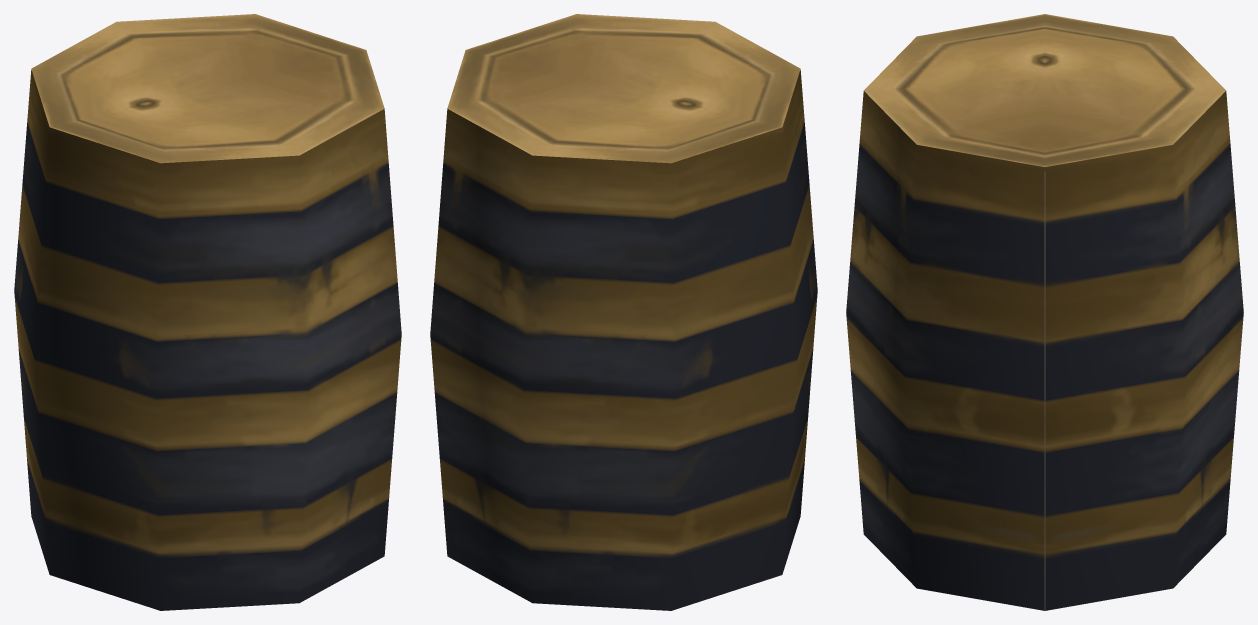
The picture shows the model from 3 angles, left to right: view 1: azimuth 30°, elevation 25°; view 2: azimuth 150°, elevation 25°; view 3: azimuth 270°, elevation 25°; orthographic projection.
Visible parts, largest first — view 1: dm_ml06; view 2: dm_ml06; view 3: dm_ml06.
Boxes of the visible parts, <box> form: dm_ml06: <box>14,14,401,610</box>; dm_ml06: <box>430,14,817,610</box>; dm_ml06: <box>846,14,1243,610</box>.
Size of the model in its own units: 167 by 167 by 206.
